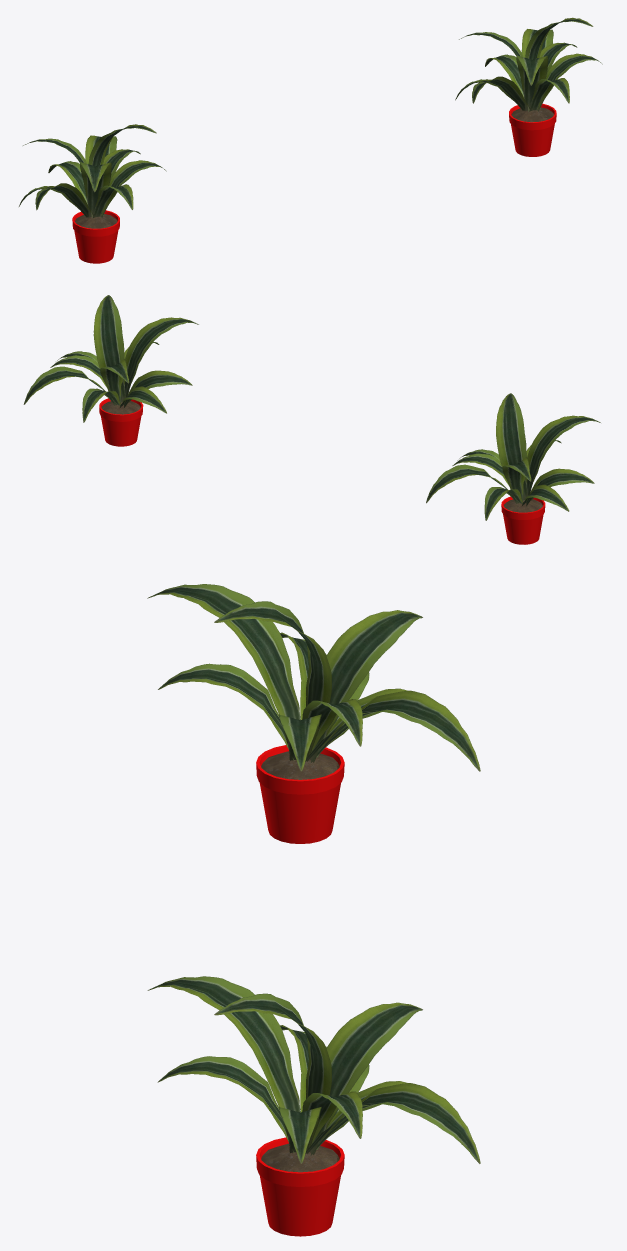
The model's file is indoor_plant_v01_opt_Draco.glb.
3 views of the same model, one above another, from view 1: azimuth 30°, elevation 25°; view 2: azimuth 150°, elevation 25°; view 3: azimuth 270°, elevation 25° (orthographic). The views are drawn at different scales.
Visible parts, largest first — view 1: Plant2_Selectable, Plant1_Selectable; view 2: Plant1_Selectable, Plant2_Selectable; view 3: Plant1_Selectable, Plant2_Selectable.
Part boxes in pixels (bbox=[...]): Plant2_Selectable: bbox=[19, 124, 166, 263]; Plant1_Selectable: bbox=[455, 17, 602, 156]; Plant1_Selectable: bbox=[23, 295, 198, 446]; Plant2_Selectable: bbox=[426, 393, 600, 544]; Plant1_Selectable: bbox=[147, 976, 480, 1236]; Plant2_Selectable: bbox=[147, 584, 480, 843].
Size of the model in its own units: 3.91 by 0.8725 by 1.19.
2 materials, 2 textured.
